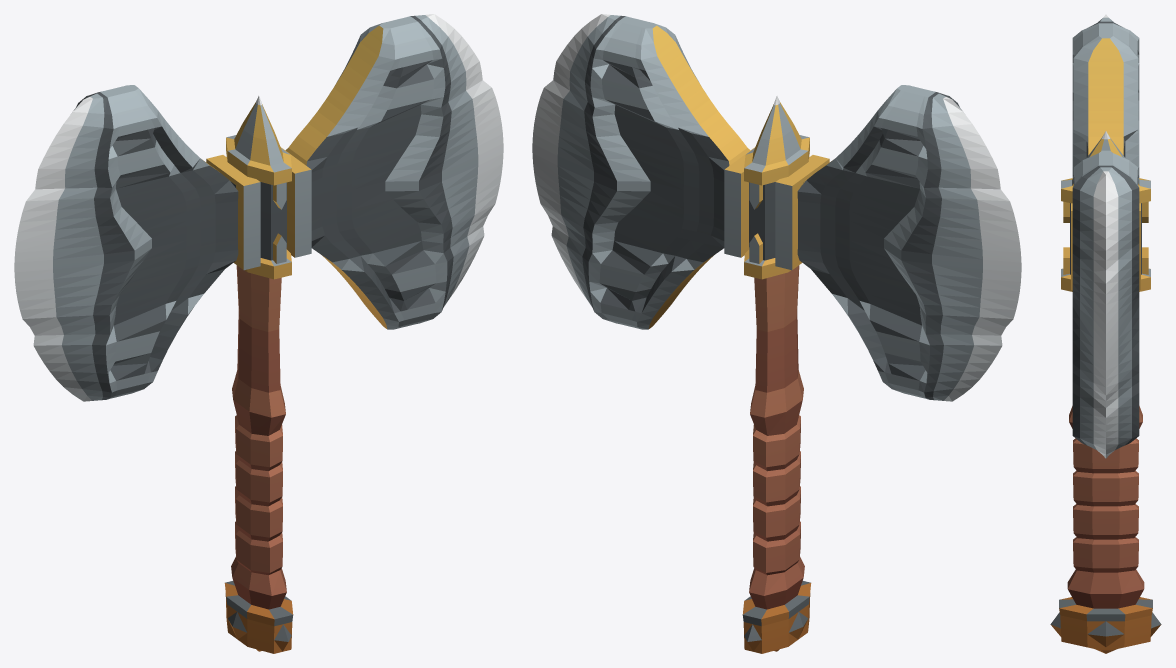
Rendered from source.glb.
The picture shows the model from 3 angles, left to right: view 1: azimuth 30°, elevation 25°; view 2: azimuth 150°, elevation 25°; view 3: azimuth 270°, elevation 25°; orthographic projection. The views are drawn at different scales.
Visible parts, largest first — view 1: model; view 2: model; view 3: model.
Part boxes in pixels (x1,y1,x2,y2): model: (14,14,503,653); model: (532,14,1021,653); model: (1050,14,1161,653).
Size of the model in its own units: 1.72 by 2 by 0.36.
Materials: 1 (1 with a texture image).
